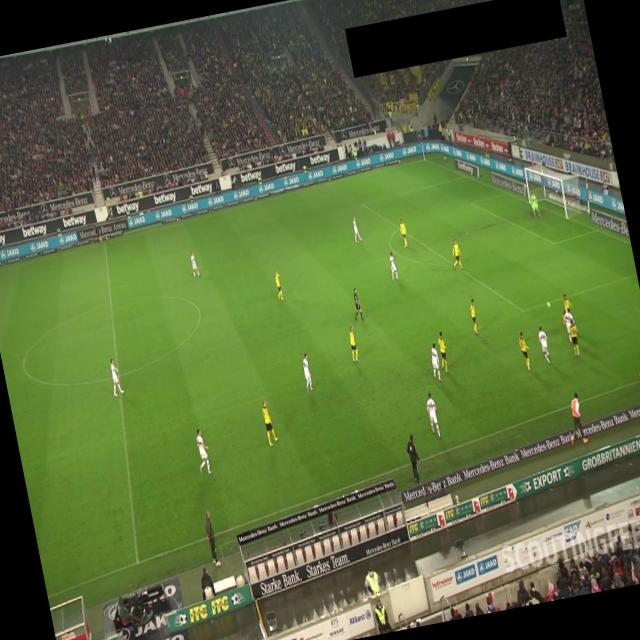ball: (546, 301, 552, 308)
goalkeeper: (528, 190, 542, 220)
player: (192, 428, 214, 477), (423, 390, 442, 440), (260, 398, 278, 448), (435, 330, 452, 374), (107, 357, 125, 397), (517, 330, 534, 372), (428, 342, 444, 384), (536, 325, 552, 365), (562, 306, 579, 342), (567, 318, 582, 358), (300, 352, 314, 392), (346, 324, 360, 363), (448, 238, 464, 271), (468, 298, 480, 336), (398, 217, 410, 249), (388, 250, 400, 282), (272, 270, 284, 302), (351, 216, 364, 243), (189, 250, 201, 278), (560, 293, 574, 315)
referee: (349, 287, 365, 322), (634, 343, 640, 390), (93, 220, 103, 244)
